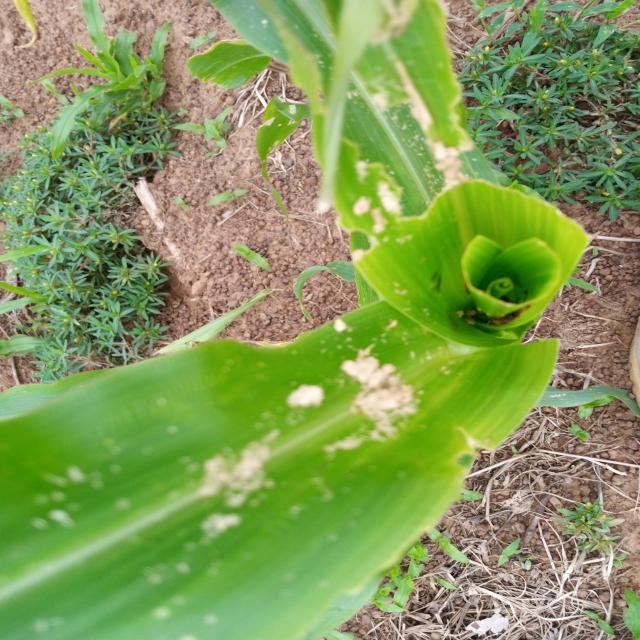fall-armyworm-egg: (28, 342, 423, 596), (344, 164, 425, 252), (433, 293, 523, 360), (350, 87, 425, 135)
fall-armyworm-larval-damage: (423, 67, 515, 194), (261, 9, 326, 149), (413, 415, 504, 486)
